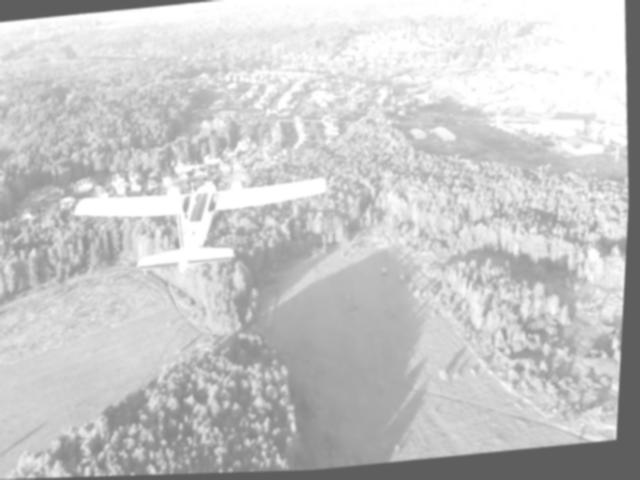hedef: (51, 165, 344, 282)
